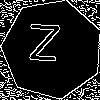Z: (27, 24, 61, 71)
